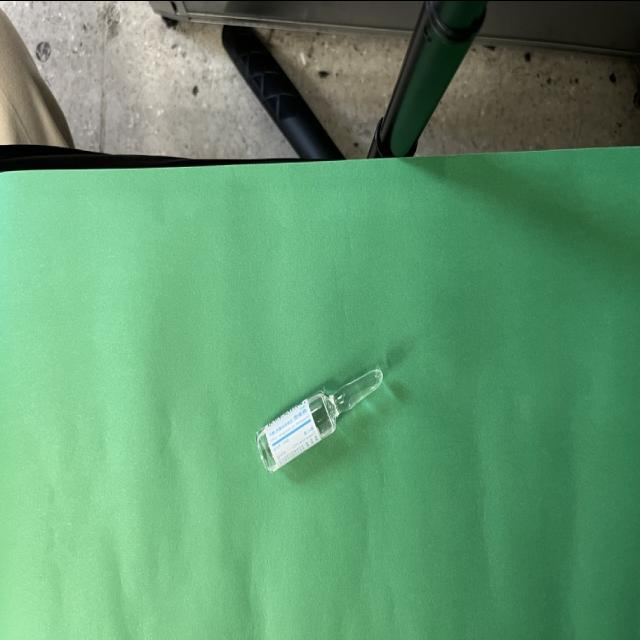Ampoules: (258, 367, 384, 473)
